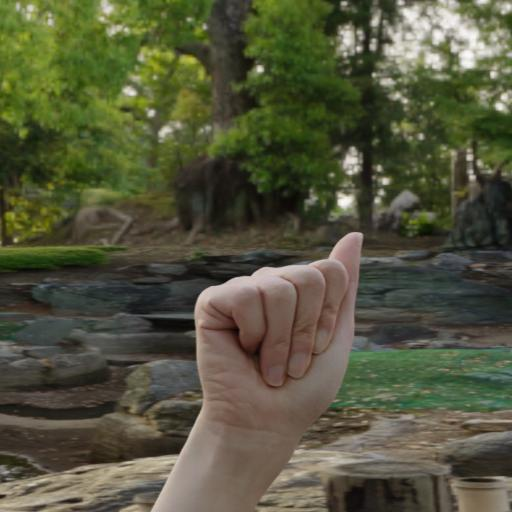A: (131, 182, 409, 469)
